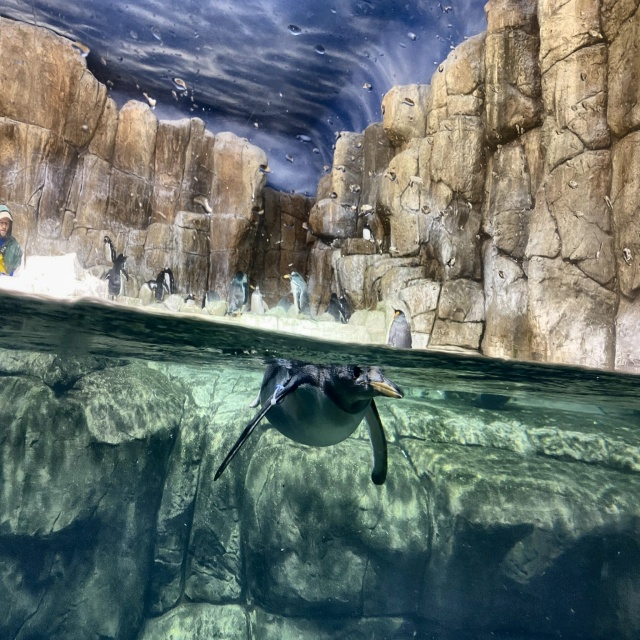penguin: (212, 357, 404, 485), (282, 267, 314, 324), (223, 268, 249, 322), (384, 305, 412, 350), (106, 252, 129, 296), (324, 290, 347, 330), (250, 280, 270, 320), (154, 271, 170, 305), (101, 235, 117, 267), (338, 291, 353, 325), (160, 267, 175, 298), (182, 291, 198, 310), (201, 289, 209, 313)
